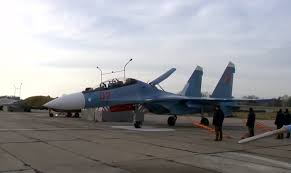maybay_muctieu: (44, 57, 291, 130)
